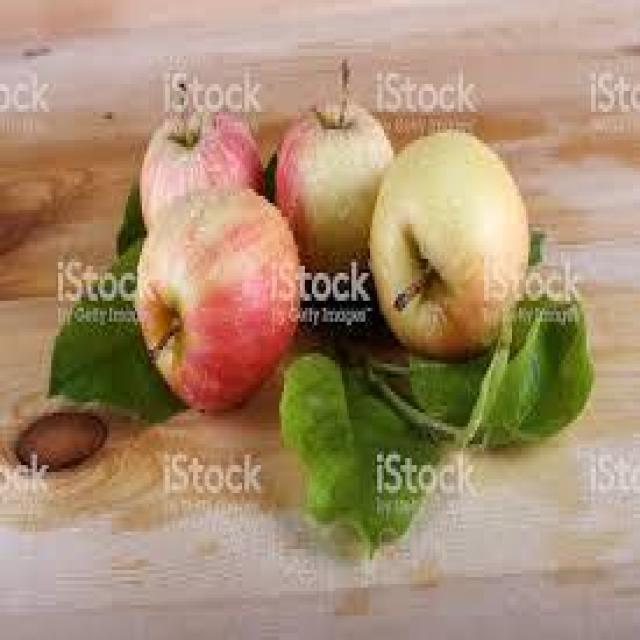apple: (142, 186, 289, 396), (289, 101, 384, 252), (142, 112, 265, 178)
